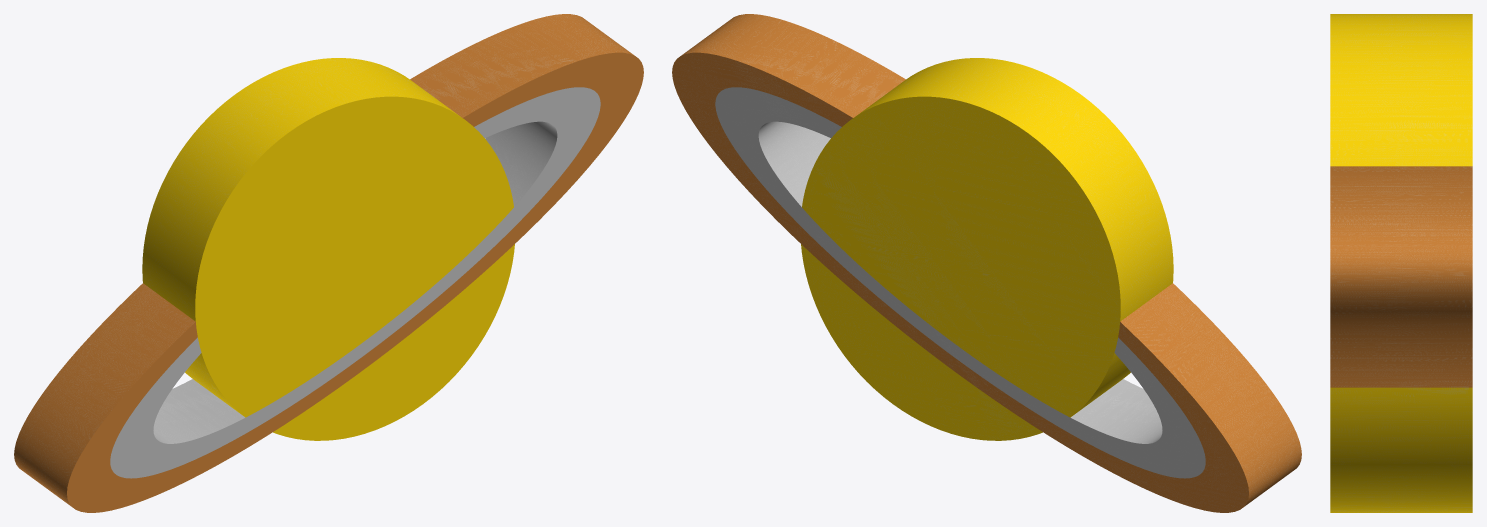
Rendered from solarGP.dae.
3 renders of one model, left to right at view 1: azimuth 30°, elevation 25°; view 2: azimuth 150°, elevation 25°; view 3: azimuth 270°, elevation 25°, orthographic. The views are drawn at different scales.
Parts seen in each view (by area): view 1: trophy_solarGP (×7); view 2: trophy_solarGP (×4); view 3: trophy_solarGP (×3).
Part boxes in pixels (x1=…): trophy_solarGP (×7): x1=14, y1=14, x2=643, y2=512; trophy_solarGP (×4): x1=672, y1=14, x2=1301, y2=512; trophy_solarGP (×3): x1=1330, y1=14, x2=1472, y2=512.
Bounding box in the file's own units: 248 × 39.37 × 144.
